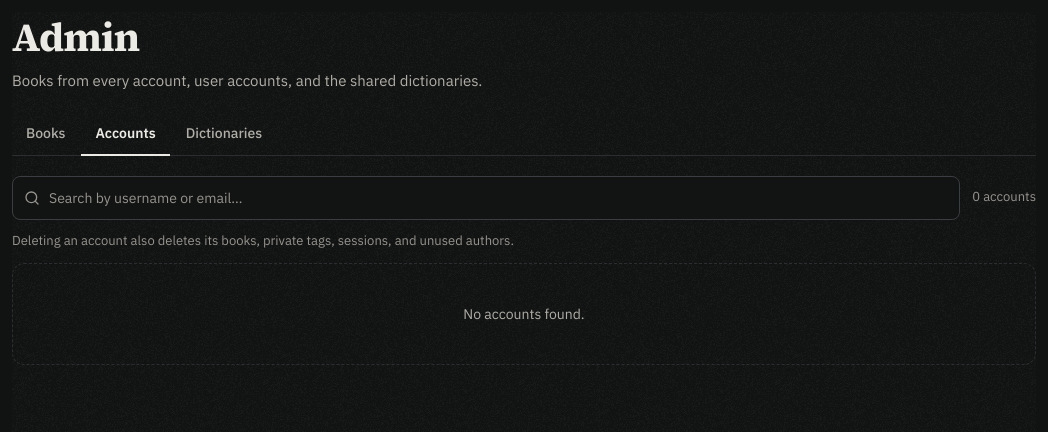
Test: AdminPage › keeps the section in the URL and shows one section at a time
Expected: the search field with placeholder "Search by username or email…" is shown, left=12, top=176, right=960, bottom=220
Click the tab "Dictionaries" at [224, 134], box left=172, top=112, right=276, bottom=156
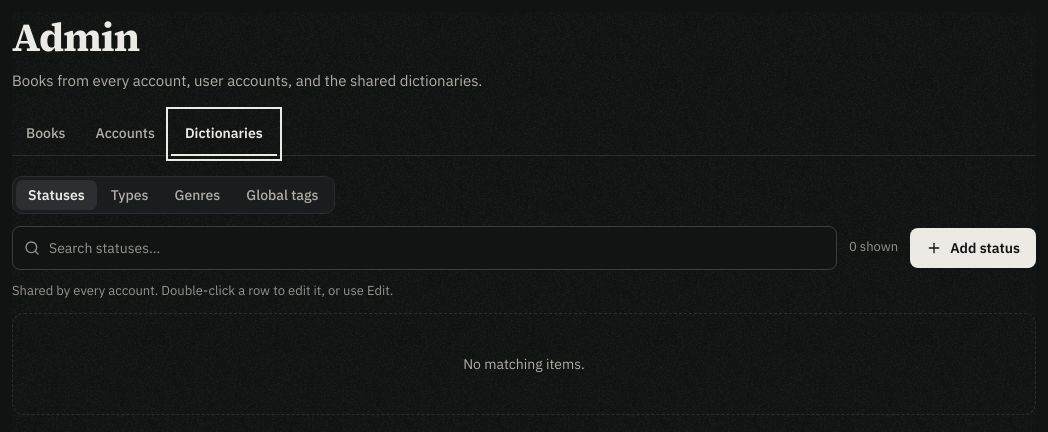
Expected: the field with placeholder "Search by username or email…" is not shown
Expected: the element named "Dictionary" is shown, left=12, top=176, right=334, bottom=214
